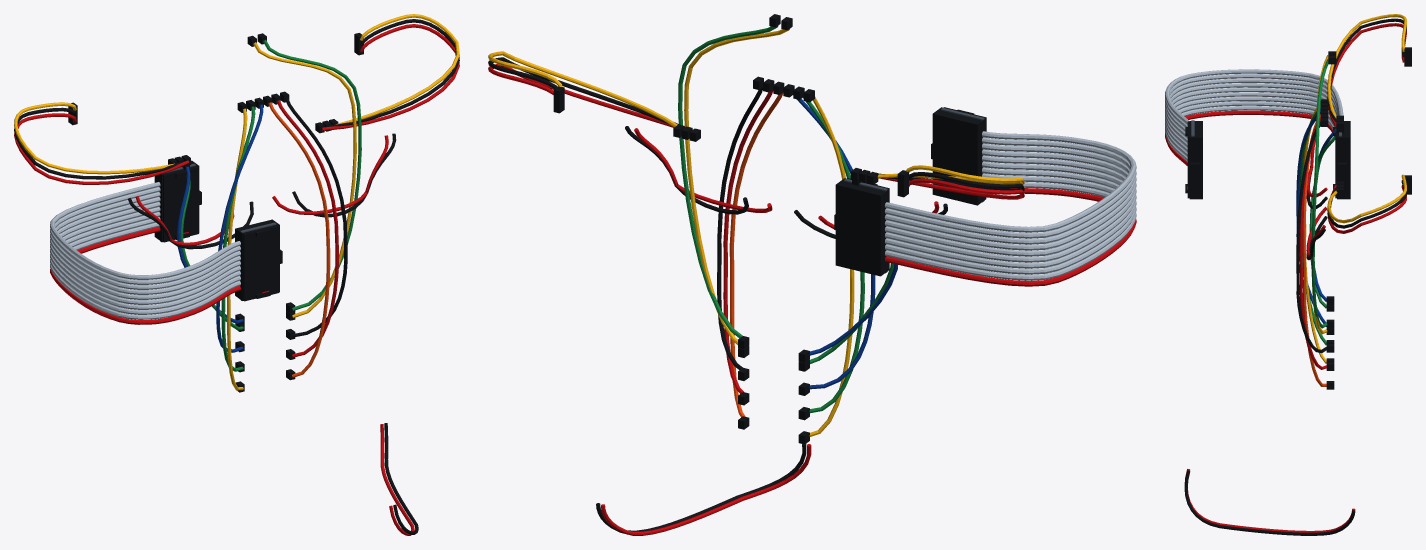
The model's file is home_robot_wiring.obj.
3 renders of one model, left to right at view 1: azimuth 30°, elevation 25°; view 2: azimuth 150°, elevation 25°; view 3: azimuth 270°, elevation 25°, orthographic. The views are drawn at different scales.
Visible parts, largest first — view 1: home_robot_wiring; view 2: home_robot_wiring; view 3: home_robot_wiring.
Boxes of the visible parts, x1,y1,x2,y2 form: home_robot_wiring: (14,14,459,535); home_robot_wiring: (488,14,1136,535); home_robot_wiring: (1165,14,1411,535).
Size of the model in its own units: 2.43 by 2.44 by 1.27.
